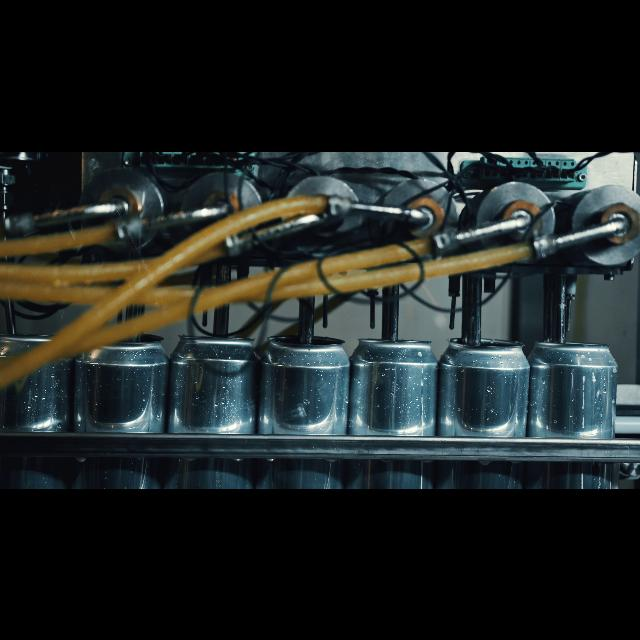empty: (266, 318, 350, 488), (84, 324, 168, 488), (445, 329, 529, 489), (356, 326, 438, 488), (177, 322, 255, 488), (537, 332, 615, 488), (3, 324, 72, 488)
